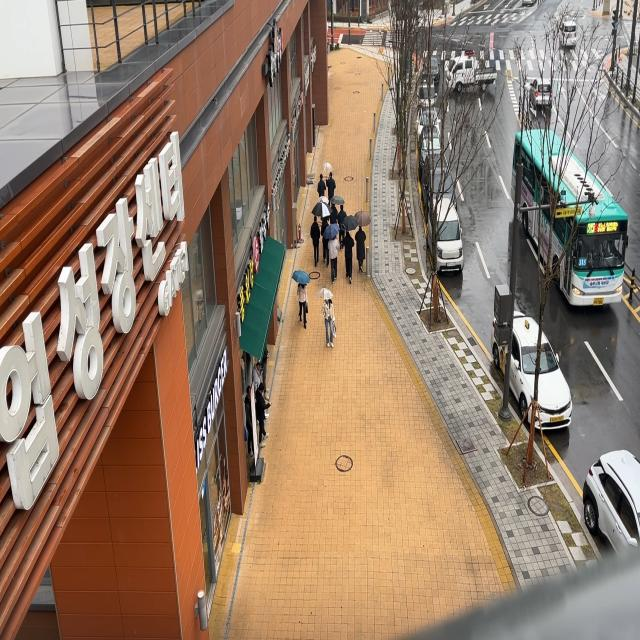Bus: (508, 123, 630, 310)
Car: (488, 299, 576, 430), (583, 450, 640, 554), (426, 198, 464, 276), (421, 156, 461, 208), (525, 67, 556, 111), (416, 104, 447, 137), (420, 50, 444, 85), (559, 10, 579, 49), (418, 134, 444, 164), (419, 80, 438, 108)
Truck: (442, 44, 502, 92)
